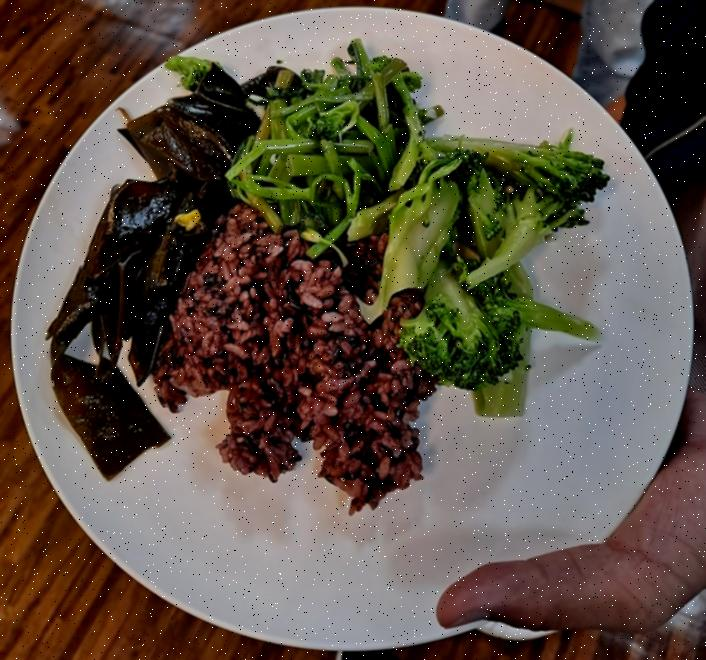plate: (10, 6, 698, 656)
purple rice: (160, 207, 432, 497)
side dish: (44, 79, 258, 482), (366, 135, 614, 422), (232, 52, 418, 217)
